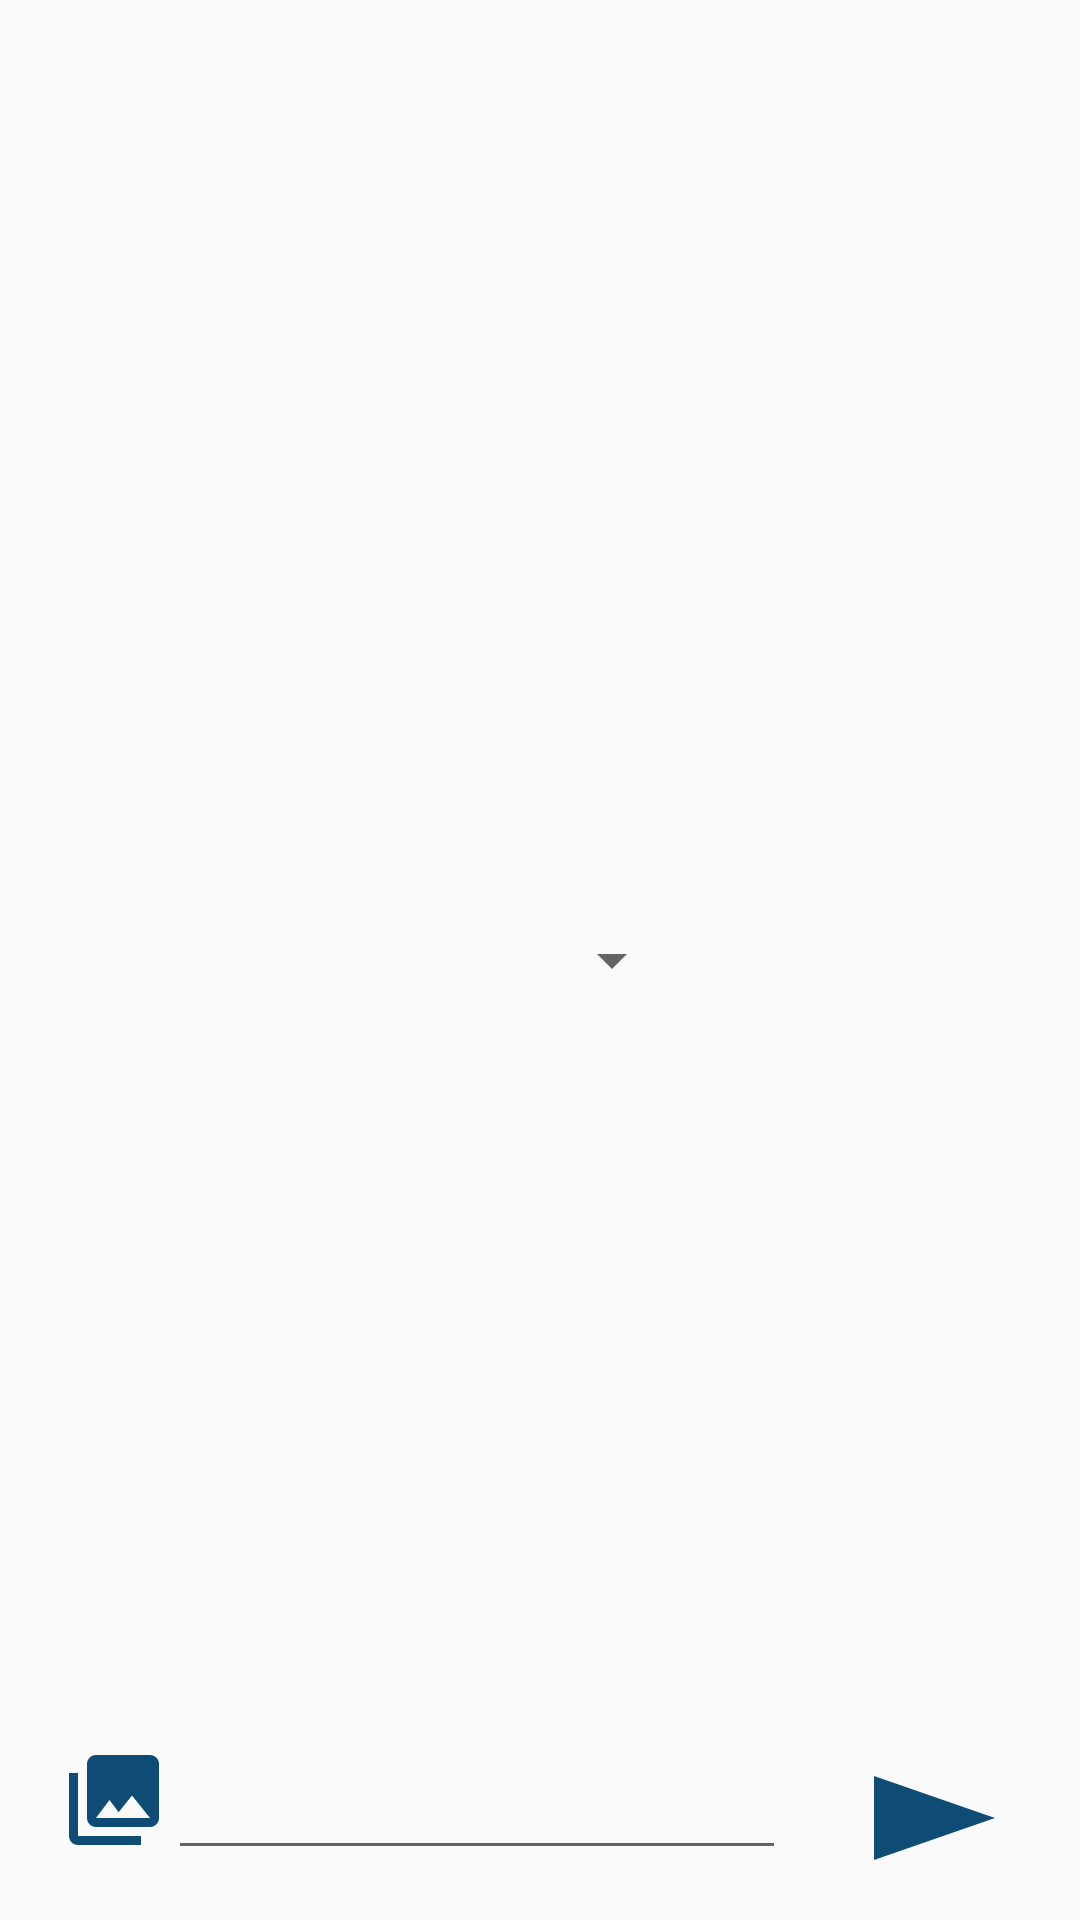

Icon click points for this 1080×1920 phone screenshot, format (x=x, y=y):
collections: (x=114, y=1800)
